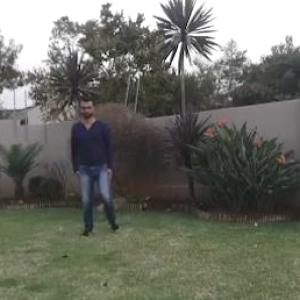follow: (72, 89, 115, 235)
